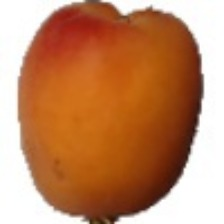apricot: (42, 22, 199, 172)
